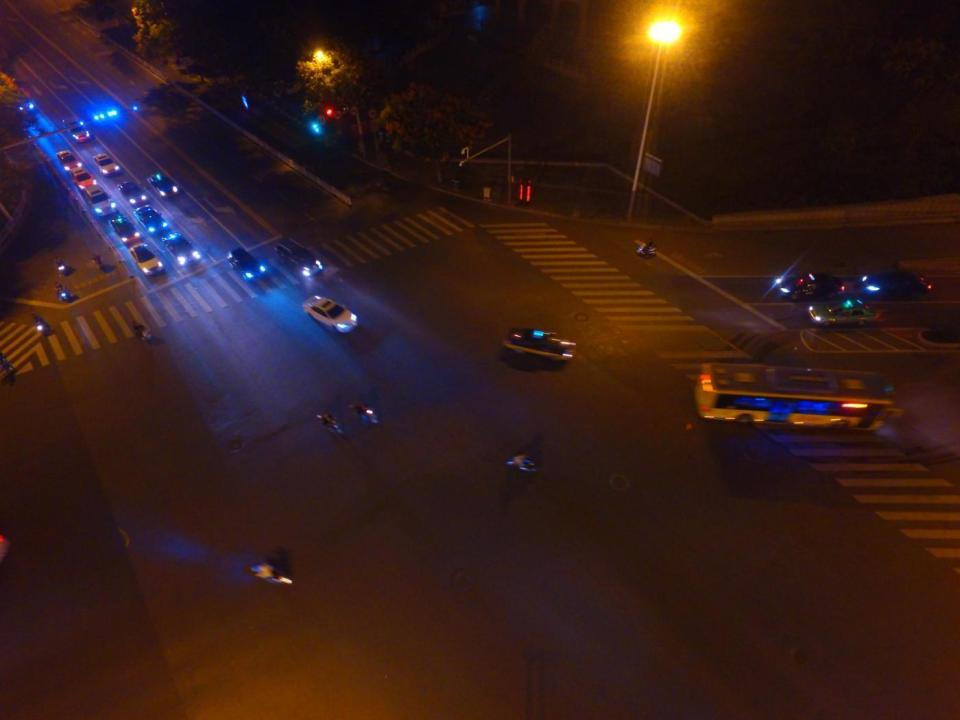bus: (691, 357, 904, 443)
car: (503, 326, 577, 365), (302, 292, 358, 332), (807, 300, 883, 327), (273, 238, 324, 278), (774, 272, 848, 298), (858, 272, 932, 296), (224, 250, 266, 282), (162, 233, 200, 268), (84, 184, 119, 221), (108, 215, 143, 248), (135, 206, 171, 238), (127, 244, 162, 276), (117, 179, 151, 208), (147, 172, 181, 200), (8, 84, 37, 116), (64, 117, 90, 143), (70, 166, 94, 194), (93, 153, 119, 175), (58, 152, 84, 174)
